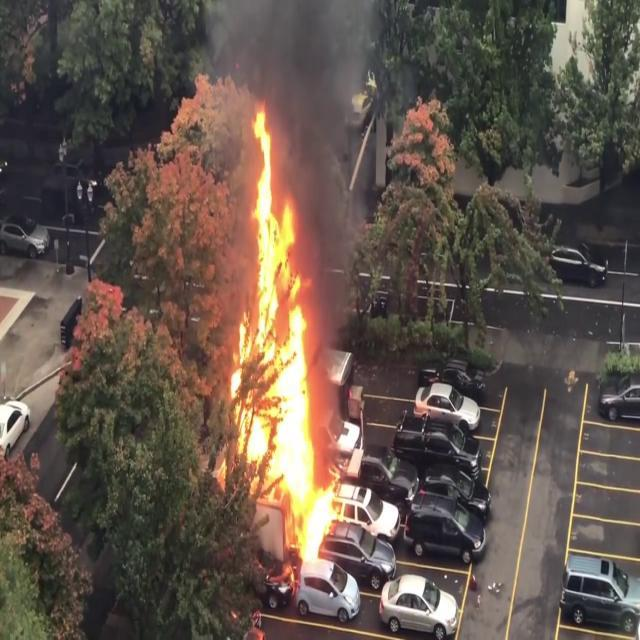Fire: (220, 101, 338, 579)
Smoke: (204, 0, 377, 229)
